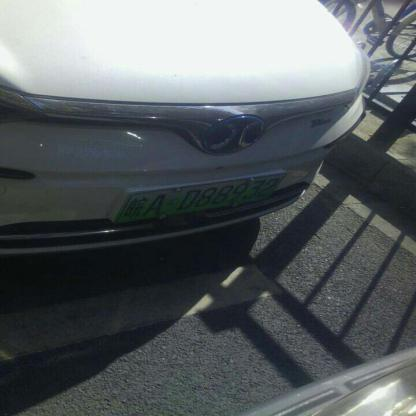lp: (117, 174, 286, 222)
